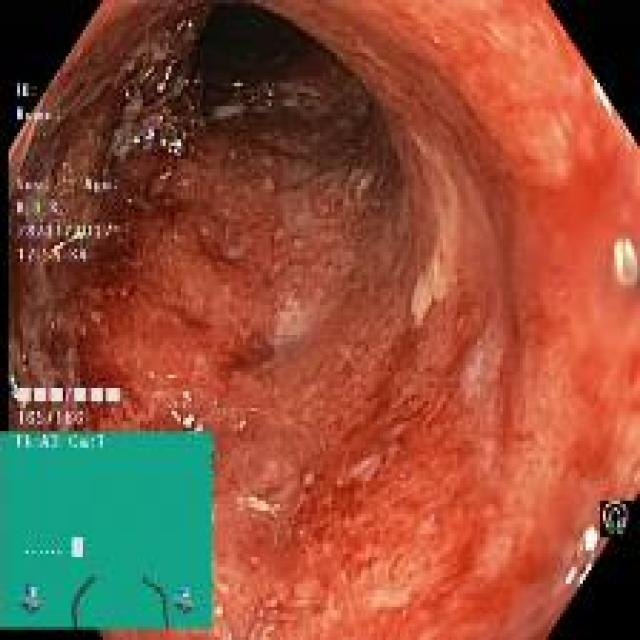ulcerative-colitis-grade-3: (10, 3, 640, 638)
